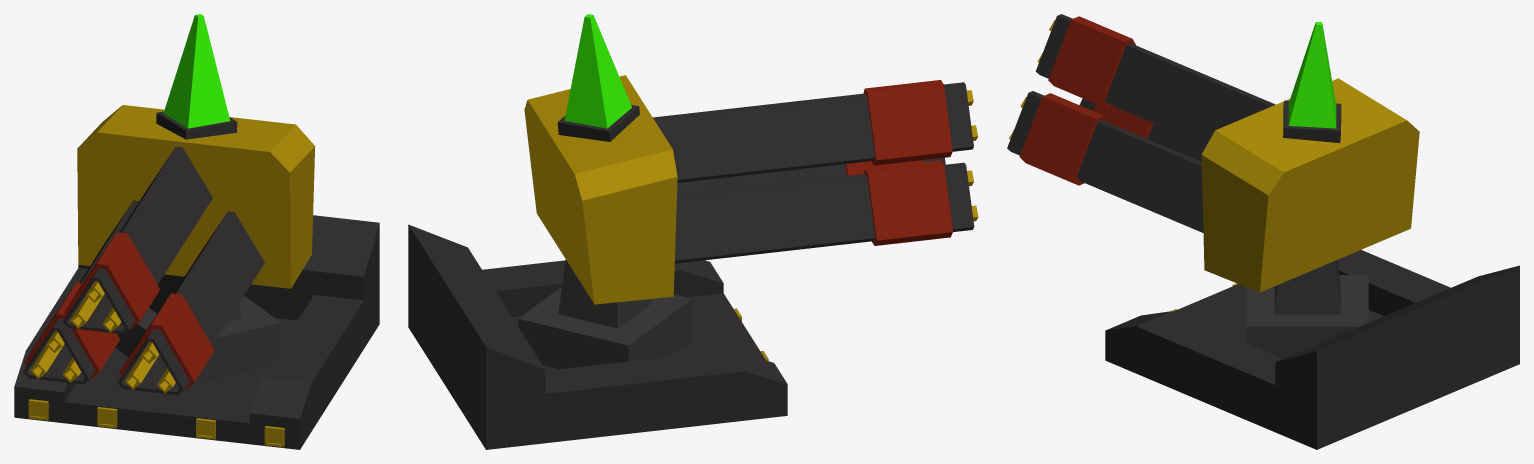
The model's file is common_0.glb.
The picture shows the model from 3 angles, left to right: view 1: azimuth 30°, elevation 25°; view 2: azimuth 150°, elevation 25°; view 3: azimuth 270°, elevation 25°; orthographic projection. The views are drawn at different scales.
Visible parts, largest first — view 1: BaseCannonTurret1_primitive0, GunCannonTurret1_primitive2, GunCannonTurret1_primitive0, GunCannonTurret1_primitive1, MiddleCannonTurret1, GunCannonTurret1_primitive3, BaseCannonTurret1_primitive1; view 2: BaseCannonTurret1_primitive0, GunCannonTurret1_primitive0, GunCannonTurret1_primitive2, GunCannonTurret1_primitive1, MiddleCannonTurret1, GunCannonTurret1_primitive3; view 3: BaseCannonTurret1_primitive0, GunCannonTurret1_primitive2, GunCannonTurret1_primitive0, GunCannonTurret1_primitive1, MiddleCannonTurret1, GunCannonTurret1_primitive3.
Boxes of the visible parts, bbox=[...] form: BaseCannonTurret1_primitive0: bbox=[14, 215, 379, 449]; GunCannonTurret1_primitive2: bbox=[30, 105, 315, 393]; GunCannonTurret1_primitive0: bbox=[23, 111, 264, 395]; GunCannonTurret1_primitive1: bbox=[24, 232, 214, 389]; MiddleCannonTurret1: bbox=[115, 274, 280, 383]; GunCannonTurret1_primitive3: bbox=[163, 14, 230, 128]; BaseCannonTurret1_primitive1: bbox=[28, 399, 284, 447]; BaseCannonTurret1_primitive0: bbox=[408, 224, 787, 449]; GunCannonTurret1_primitive0: bbox=[557, 82, 974, 263]; GunCannonTurret1_primitive2: bbox=[524, 75, 978, 304]; GunCannonTurret1_primitive1: bbox=[845, 80, 952, 245]; MiddleCannonTurret1: bbox=[518, 259, 692, 369]; GunCannonTurret1_primitive3: bbox=[564, 14, 631, 128]; BaseCannonTurret1_primitive0: bbox=[1105, 250, 1519, 449]; GunCannonTurret1_primitive2: bbox=[1009, 20, 1419, 292]; GunCannonTurret1_primitive0: bbox=[1007, 14, 1341, 232]; GunCannonTurret1_primitive1: bbox=[1019, 16, 1153, 185]; MiddleCannonTurret1: bbox=[1246, 260, 1368, 358]; GunCannonTurret1_primitive3: bbox=[1288, 22, 1336, 128].
Size of the model in its own units: 0.9432 by 0.6937 by 0.9432.
